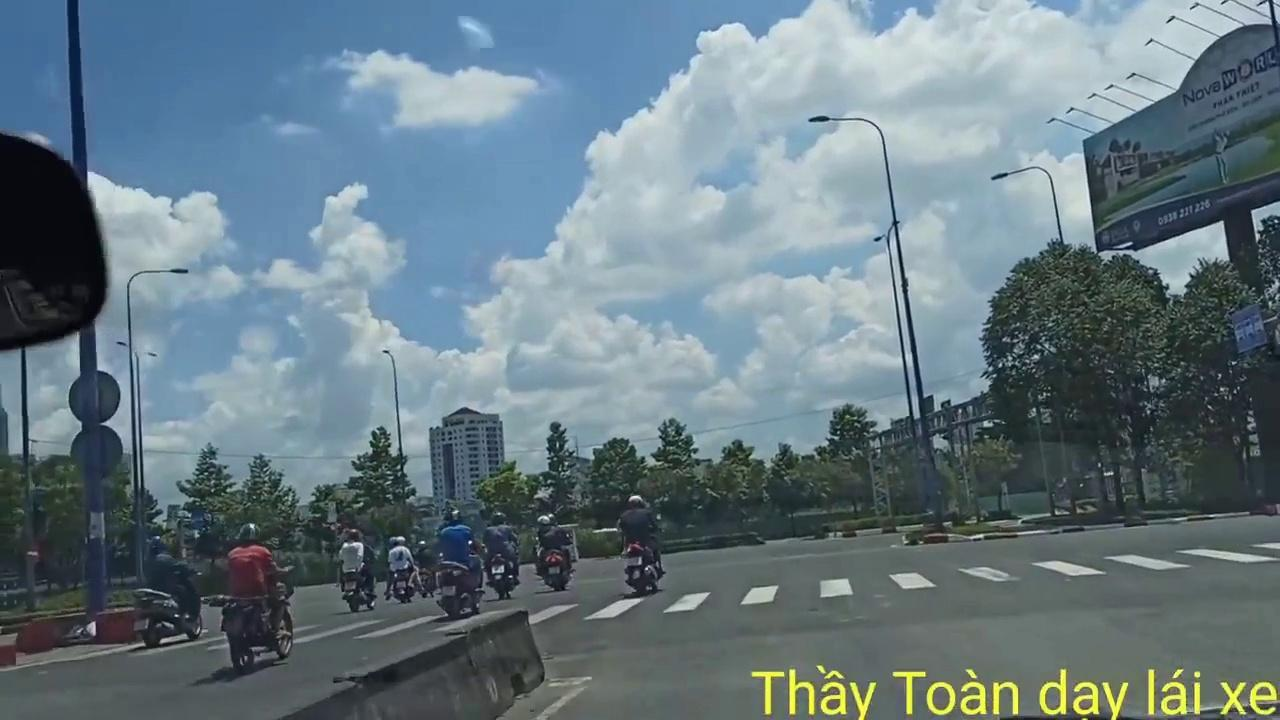Cấm đi ngược chiều: (23, 541, 42, 563)
Làn đường cho từng xe: (1230, 302, 1268, 353)
